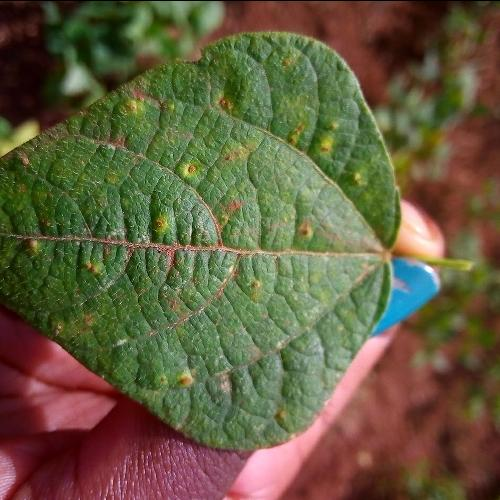hawar: (94, 68, 340, 254), (134, 337, 298, 430), (0, 175, 124, 292)
